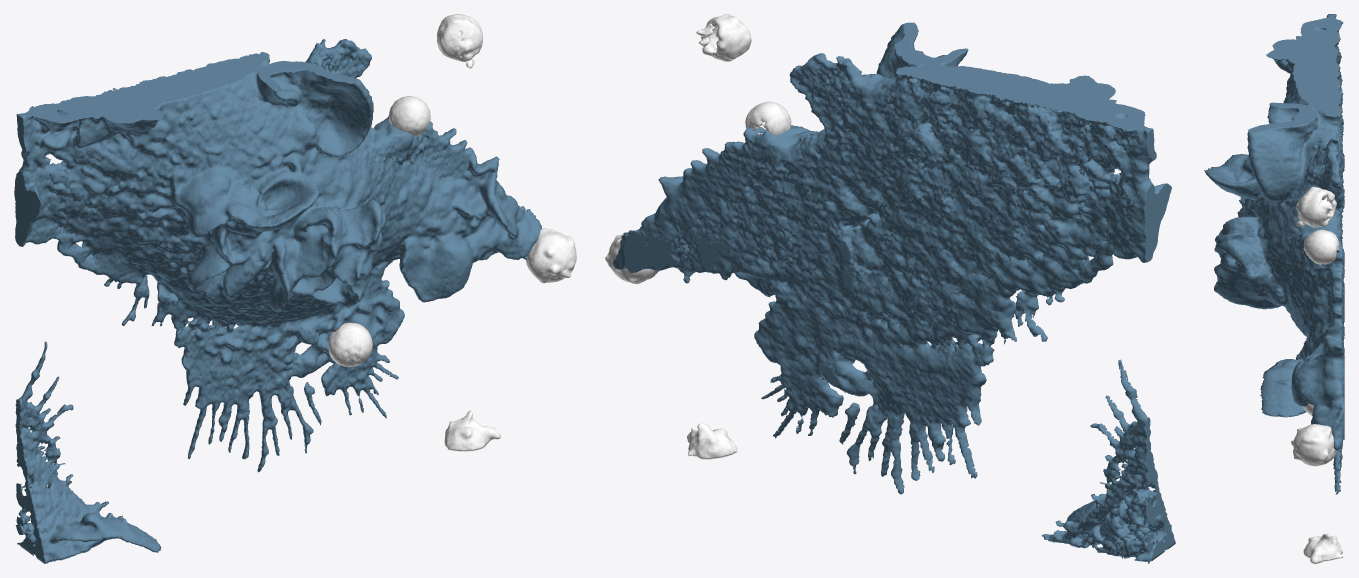
3 renders of one model, left to right at view 1: azimuth 30°, elevation 25°; view 2: azimuth 150°, elevation 25°; view 3: azimuth 270°, elevation 25°, orthographic. The views are drawn at different scales.
Visible parts, largest first — view 1: surface (×2); view 2: surface (×2); view 3: surface (×2).
Part boxes in pixels (x1,y1,x2,y2): surface (×2): (14, 14, 576, 563); surface (×2): (605, 14, 1175, 563); surface (×2): (1204, 14, 1344, 563).
Bounding box in the file's own units: 579 × 436 × 154.
